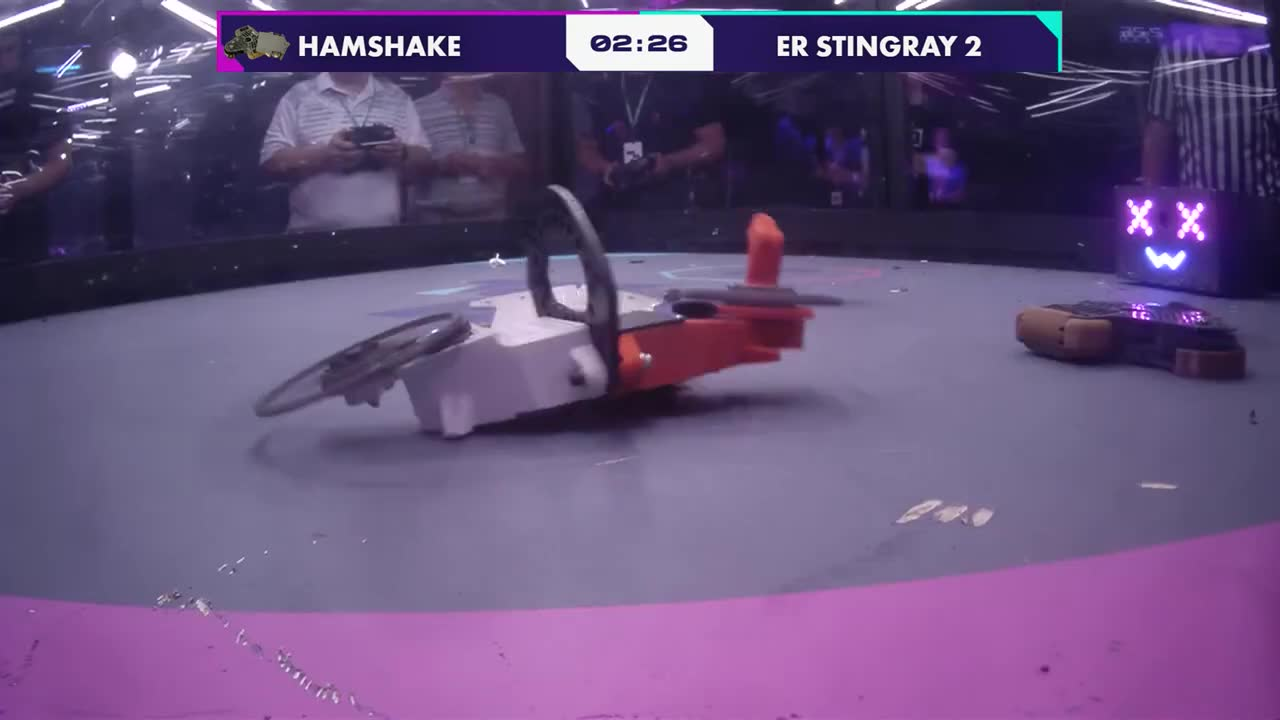combatbot: (259, 182, 846, 440), (1015, 300, 1248, 379)
housebot: (1109, 187, 1263, 297)
